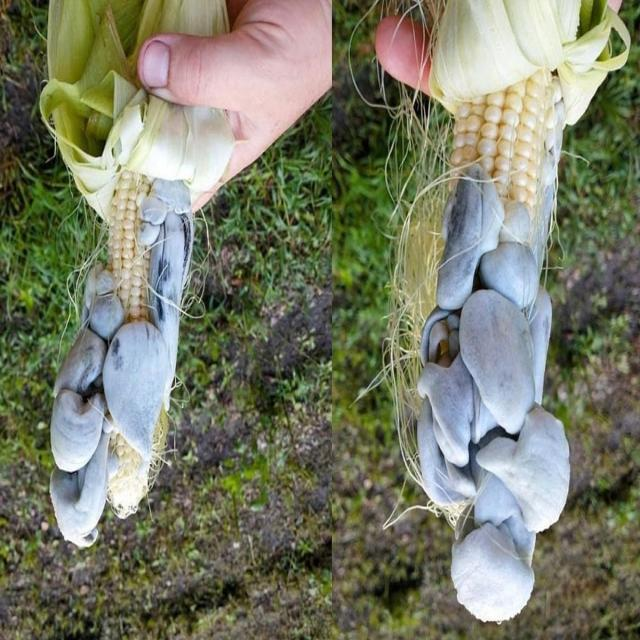Leaf_Scald: (356, 43, 623, 634), (17, 58, 260, 588)
